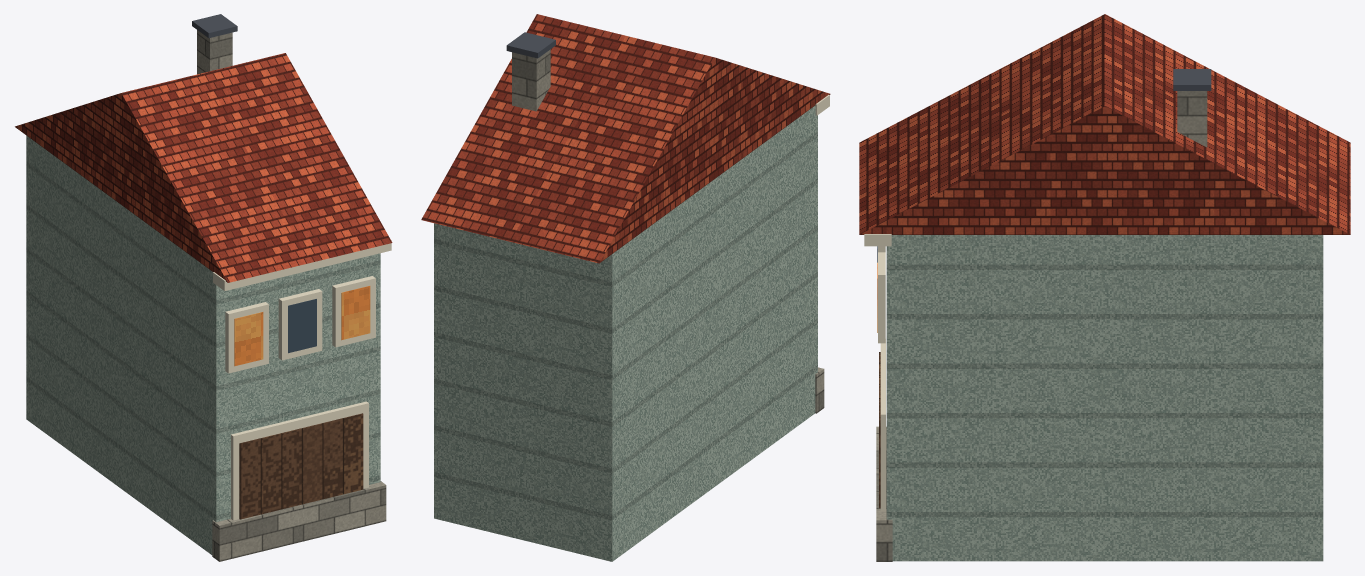
Rendered from ENV_C_Facade_7.fbx.
The picture shows the model from 3 angles, left to right: view 1: azimuth 30°, elevation 25°; view 2: azimuth 150°, elevation 25°; view 3: azimuth 270°, elevation 25°; orthographic projection. The views are drawn at different scales.
Visible parts, largest first — view 1: ENV_C_Facade_7; view 2: ENV_C_Facade_7; view 3: ENV_C_Facade_7.
Part boxes in pixels (<box>): ENV_C_Facade_7: <box>15,14,392,561</box>; ENV_C_Facade_7: <box>421,14,830,561</box>; ENV_C_Facade_7: <box>859,14,1350,561</box>.
Bounding box in the file's own units: 406 × 942 × 900.
Materials: 8 (5 with a texture image).
